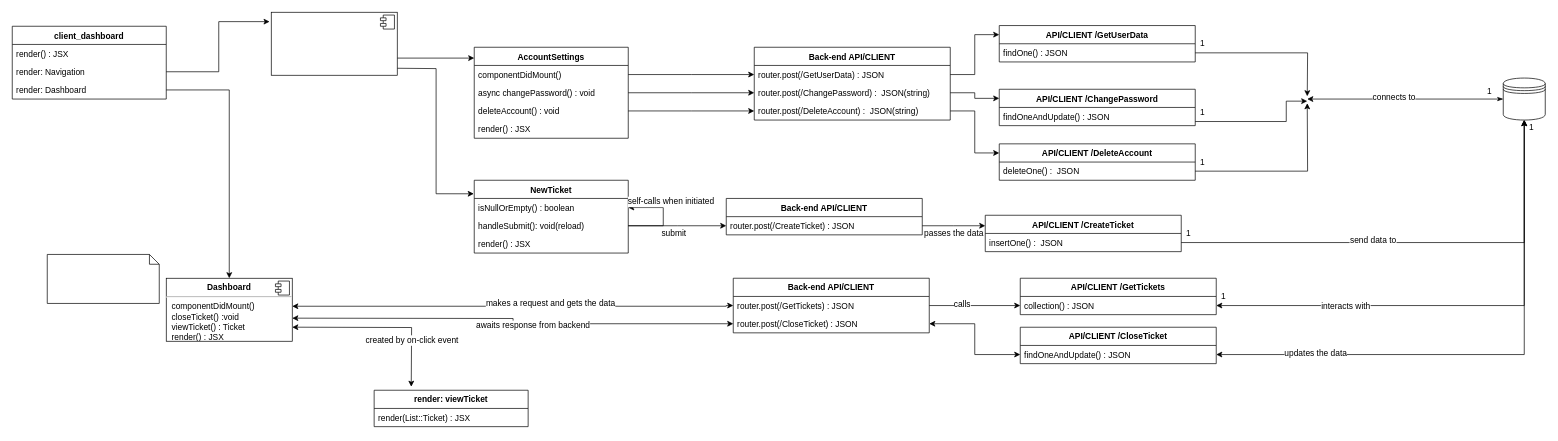
Some shapes in this 1558 by 441 pixel diagram are drawn without their labels. Here are the shapes that lost their labels. From the top down, the centre of each, then its label:
point 334,43: Navigation hideModal() : void render() : JSX accountSettings: URL newTicket: URL
point 1524,98: MongoDB
point 103,278: componentDidMount() gets all the data that is sent/passed between the functions
